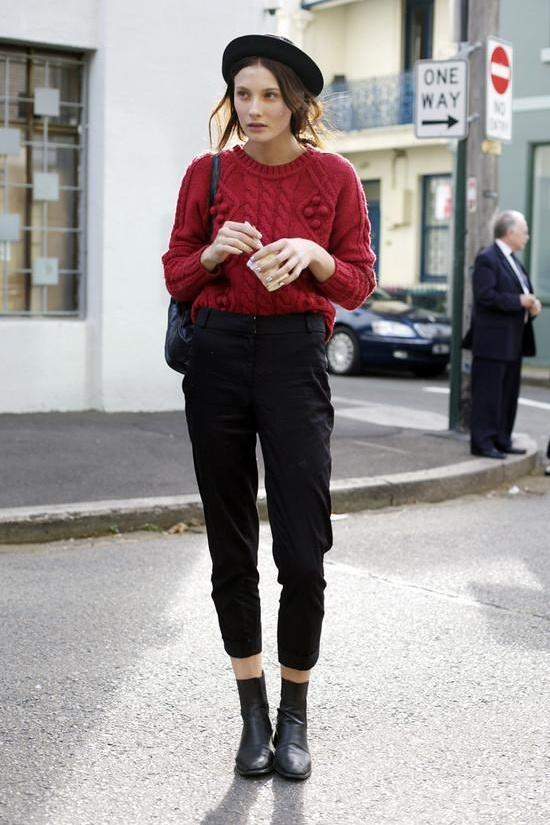pants: (182, 315, 334, 670)
sweater: (162, 144, 379, 346)
